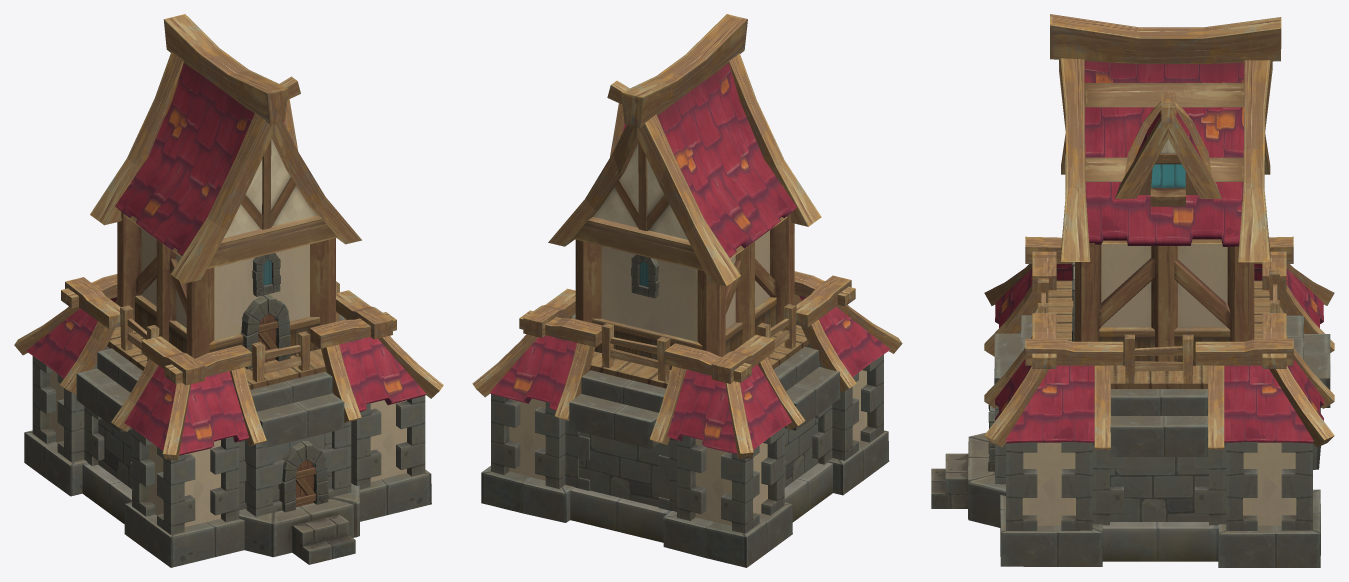
File: town_hall.FBX
3 views of the same model, side by side, from view 1: azimuth 30°, elevation 25°; view 2: azimuth 150°, elevation 25°; view 3: azimuth 270°, elevation 25° (orthographic). The views are drawn at different scales.
Parts seen in each view (by area): view 1: town_hall; view 2: town_hall; view 3: town_hall.
Part boxes in pixels (<box>): town_hall: <box>14,14,443,567</box>; town_hall: <box>472,14,902,567</box>; town_hall: <box>931,14,1334,567</box>.
Size of the model in its own units: 1876 by 2758 by 2103.
3 materials, 3 textured.
